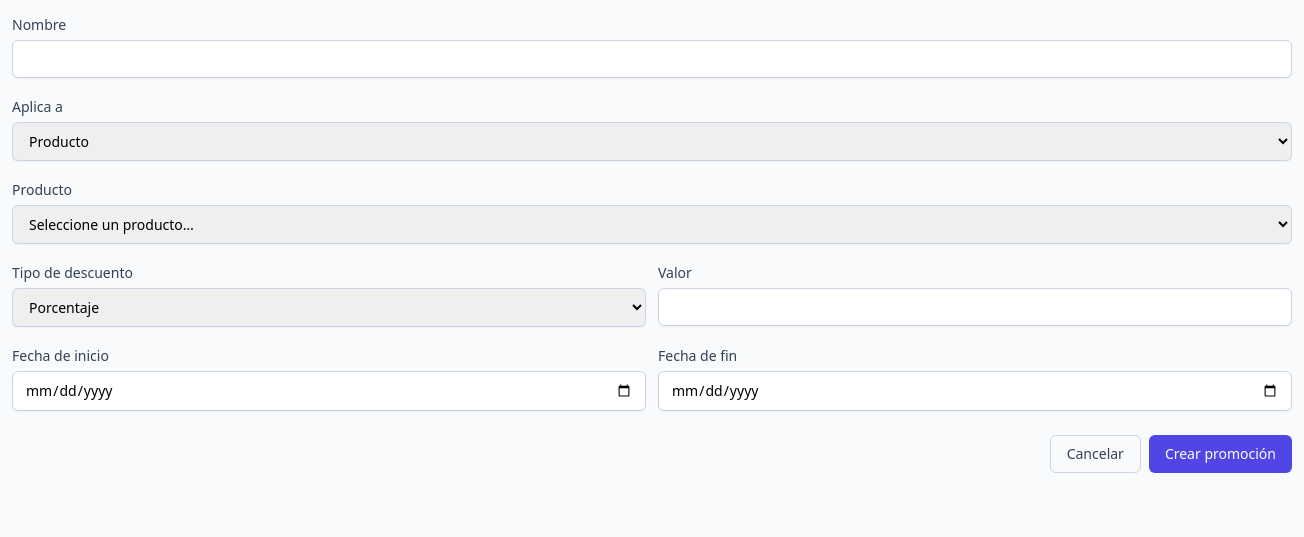
Test: PromotionForm › rechaza un porcentaje fuera del rango 1-100
The image size is (1304, 537).
Type "Promo inválida" into the field labelled "Nombre" at (652, 59), box [12, 40, 1292, 78]
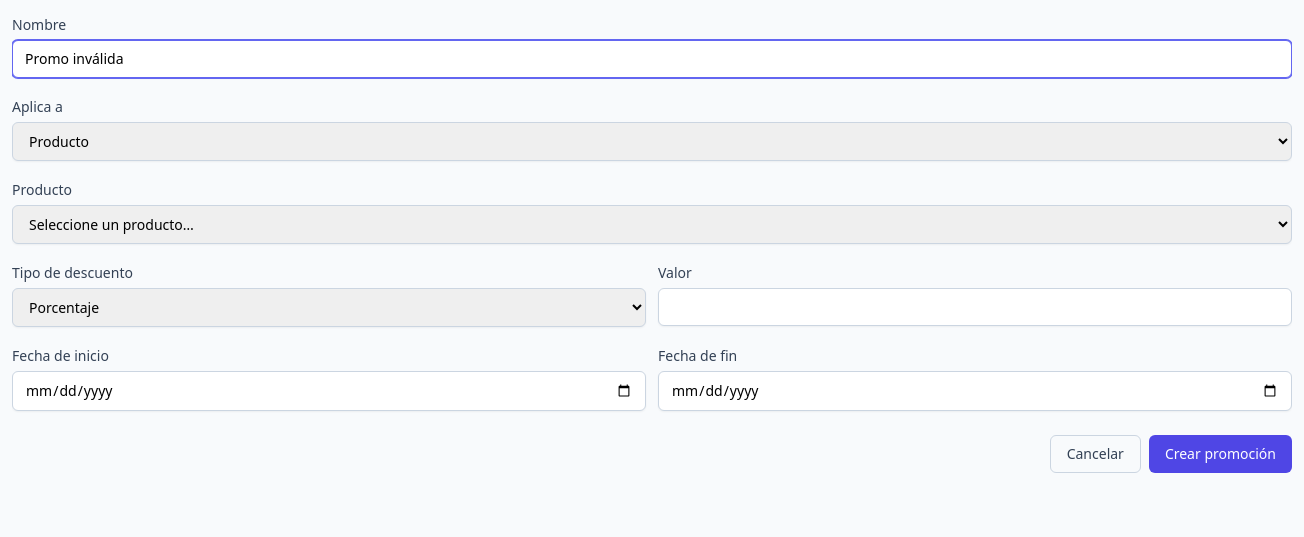
Select "Gaseosa 1.5 L (BEB-001)" in the dropdown labelled "Producto" at (652, 224), box [12, 205, 1292, 244]
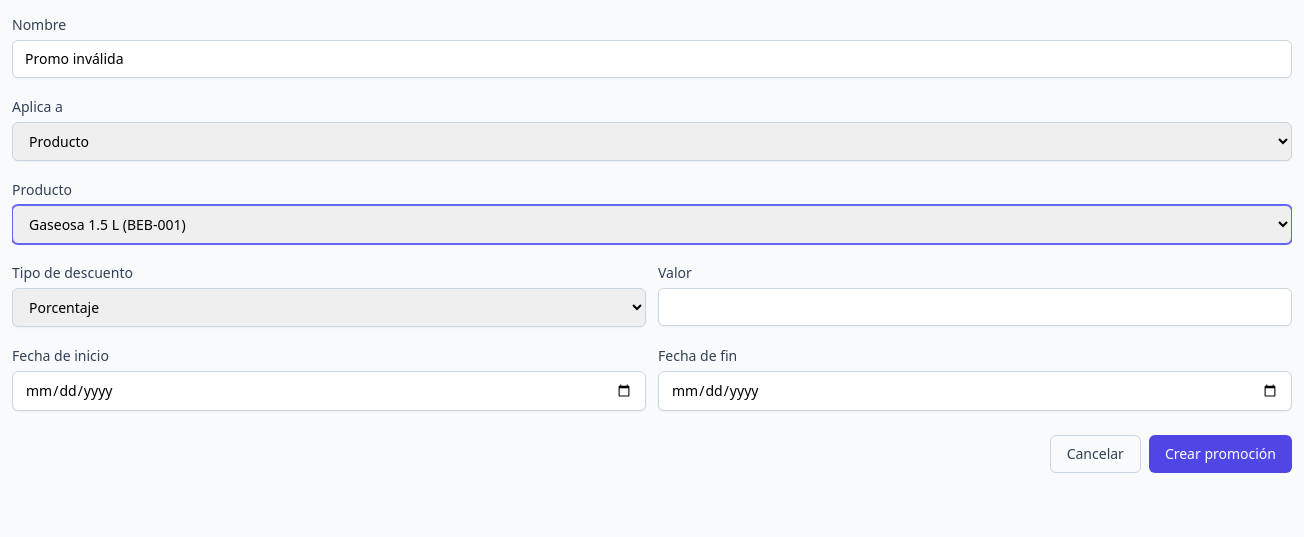
Type "150" into the number field labelled "Valor" at (975, 307), box [658, 288, 1292, 326]
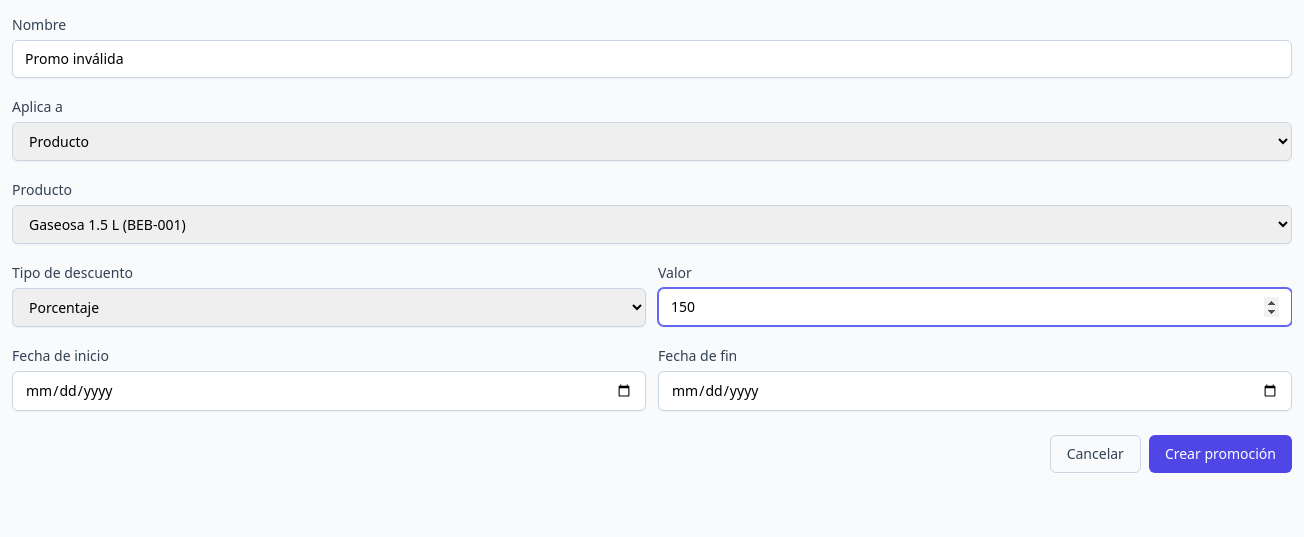
Click the button "Crear promoción" at (1220, 454), box [1149, 435, 1292, 473]
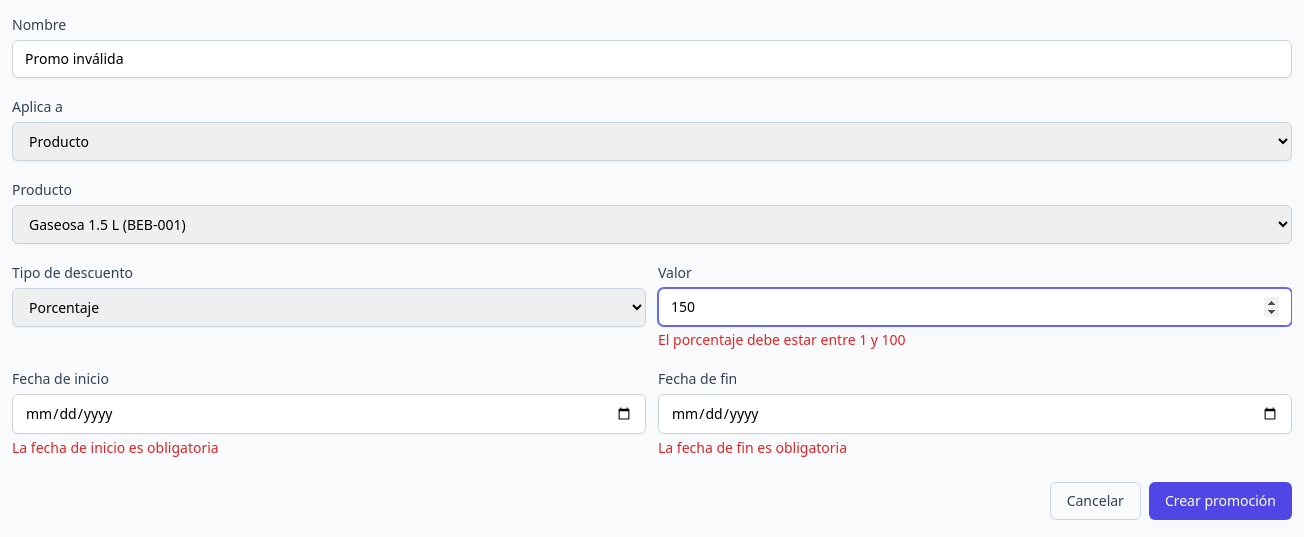
Expected: the text "El porcentaje debe estar entre 1 y 100" is shown, [658, 330, 906, 349]
